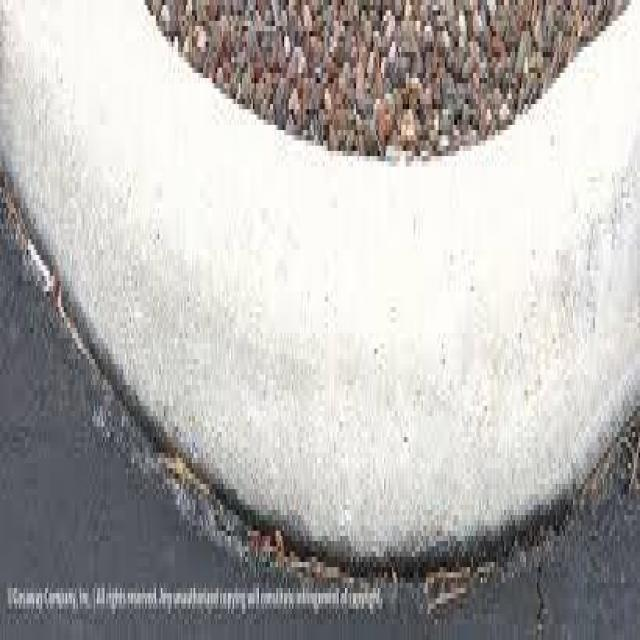curb: (1, 2, 640, 579)
